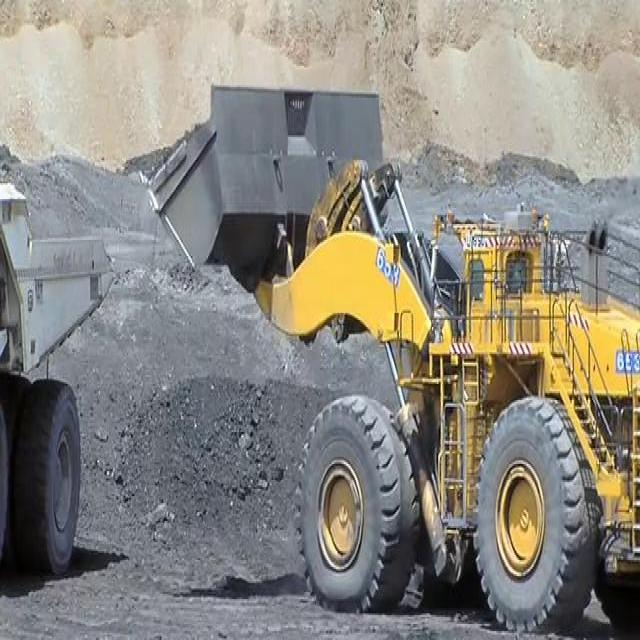Dump Truck: (0, 170, 117, 596)
Loader: (135, 71, 639, 638)
